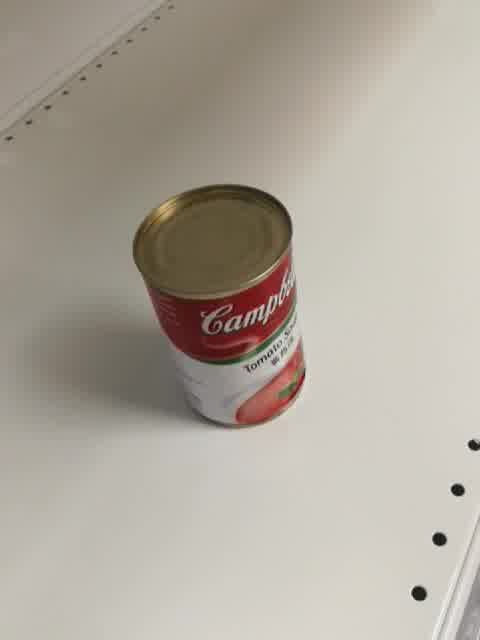tomatosoup: (131, 183, 306, 429)
